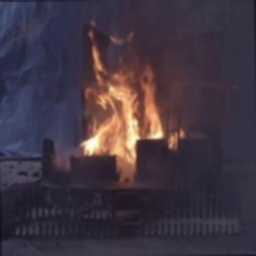fire: (78, 27, 158, 170)
